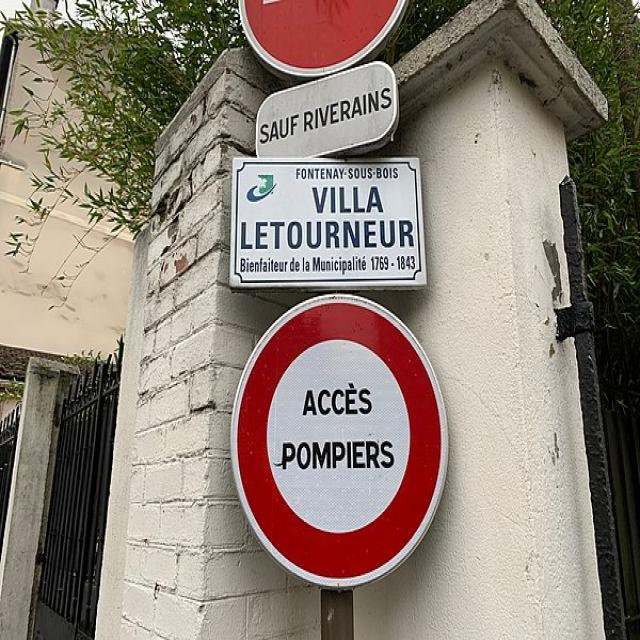forbidden: (220, 291, 455, 596)
